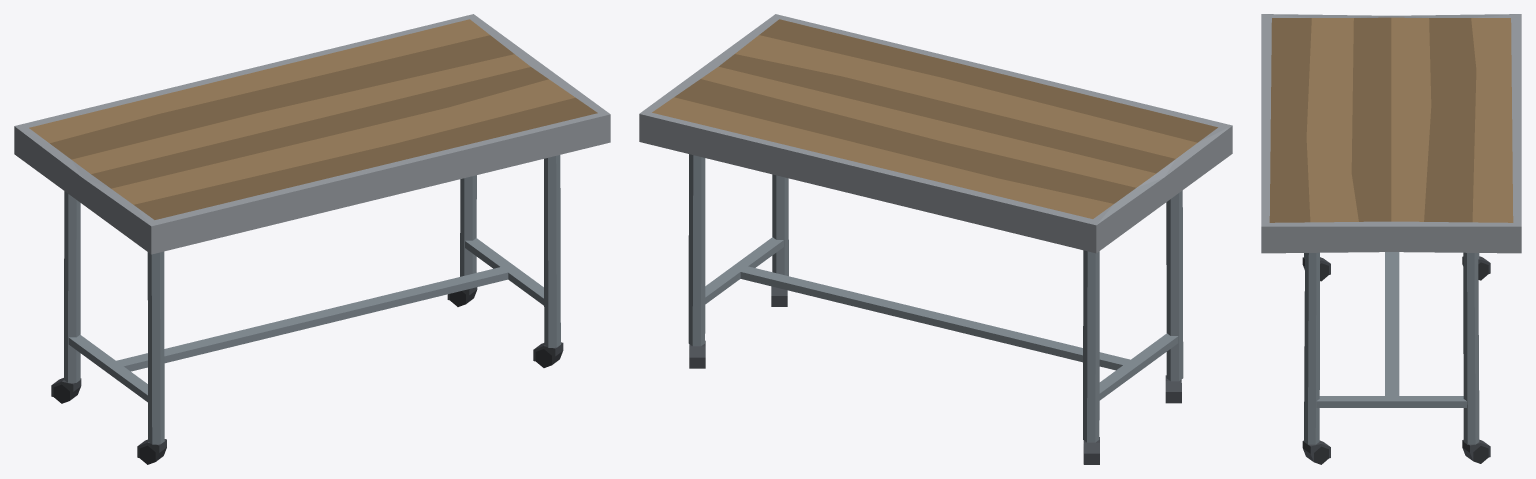
Rendered from SM_Prop_Clothes_Rack_04.fbx.
3 renders of one model, left to right at view 1: azimuth 30°, elevation 25°; view 2: azimuth 150°, elevation 25°; view 3: azimuth 270°, elevation 25°, orthographic. The views are drawn at different scales.
Visible parts, largest first — view 1: SM_Prop_Clothes_Rack_04; view 2: SM_Prop_Clothes_Rack_04; view 3: SM_Prop_Clothes_Rack_04.
Boxes of the visible parts, x1,y1,x2,y2 form: SM_Prop_Clothes_Rack_04: (14, 14, 610, 464); SM_Prop_Clothes_Rack_04: (639, 14, 1232, 464); SM_Prop_Clothes_Rack_04: (1261, 14, 1521, 464).
Size of the model in its own units: 190 by 105 by 98.39.
